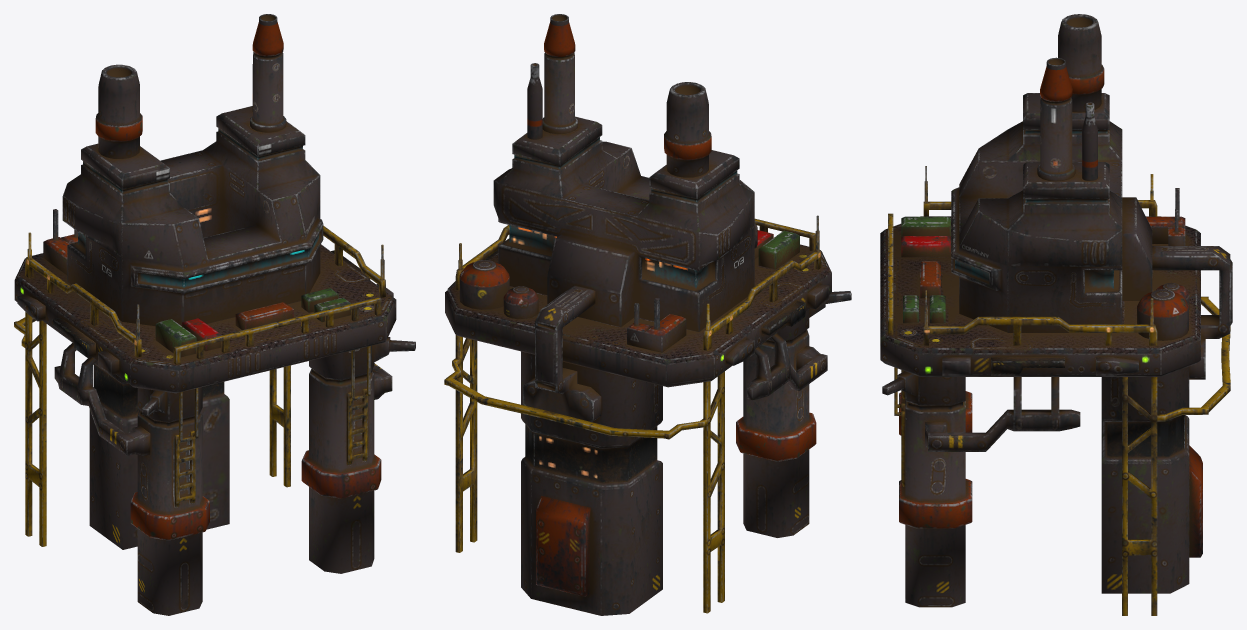
Rendered from scifiPrimitive.glb.
The picture shows the model from 3 angles, left to right: view 1: azimuth 30°, elevation 25°; view 2: azimuth 150°, elevation 25°; view 3: azimuth 270°, elevation 25°; orthographic projection. The views are drawn at different scales.
Visible parts, largest first — view 1: oilbuild; view 2: oilbuild; view 3: oilbuild.
Part boxes in pixels (bbox=[...]): oilbuild: bbox=[14, 14, 415, 615]; oilbuild: bbox=[444, 14, 851, 615]; oilbuild: bbox=[880, 14, 1232, 615].
Bounding box in the file's own units: 212 × 372 × 220.
Materials: 1 (1 with a texture image).
